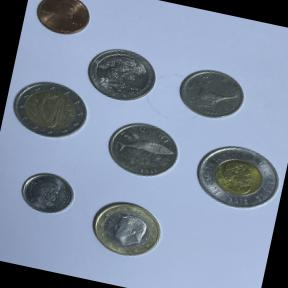1 Euro-B: (84, 192, 170, 268)
2 Euro-B: (2, 72, 96, 148)
Canada-10cent-B: (12, 162, 82, 224)
Canada-2Dollar-B: (186, 133, 288, 220)
Croatia-2Kune-B: (100, 114, 186, 186)
US-1cent-B: (28, 0, 95, 42)
US-25cent-B: (79, 41, 164, 109)
